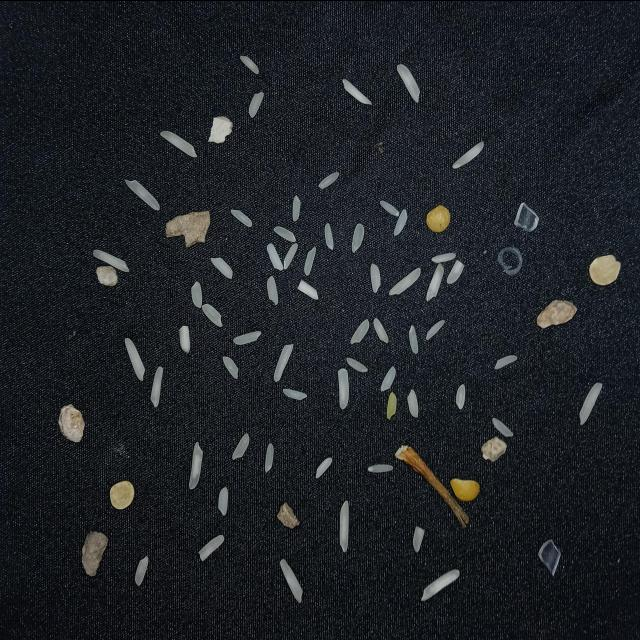Broken: (198, 534, 224, 561), (296, 279, 318, 299), (338, 368, 349, 408), (446, 259, 464, 283), (412, 525, 424, 552), (386, 391, 396, 418)
Full: (421, 568, 460, 601), (578, 380, 604, 426), (125, 178, 160, 210), (160, 129, 197, 157), (280, 558, 303, 602), (396, 63, 421, 102), (388, 266, 421, 295), (452, 140, 484, 168), (93, 248, 129, 272), (125, 337, 145, 380), (274, 342, 294, 381), (342, 78, 372, 104), (426, 262, 444, 301), (188, 441, 202, 488), (339, 499, 349, 552), (350, 317, 370, 343), (266, 242, 284, 270), (150, 366, 162, 408), (232, 432, 250, 460), (210, 256, 232, 278), (202, 302, 222, 326), (492, 416, 514, 436), (426, 318, 446, 340), (134, 555, 148, 585), (380, 365, 396, 391), (373, 317, 389, 343), (248, 91, 264, 117), (393, 208, 408, 235), (318, 170, 340, 188), (230, 208, 252, 226), (234, 330, 262, 344), (283, 242, 298, 268), (222, 355, 238, 378), (406, 388, 418, 418), (352, 222, 364, 252), (304, 245, 316, 275), (266, 274, 278, 304), (346, 356, 368, 372), (274, 226, 296, 242), (493, 354, 518, 368), (240, 55, 259, 73), (178, 324, 190, 352), (316, 457, 332, 478), (370, 262, 381, 292), (380, 200, 400, 216), (430, 252, 456, 264), (282, 388, 308, 400), (191, 280, 202, 308), (264, 442, 274, 472), (408, 324, 418, 353), (218, 486, 228, 515), (455, 383, 466, 409), (324, 222, 334, 250), (367, 463, 393, 473), (292, 194, 301, 221)
